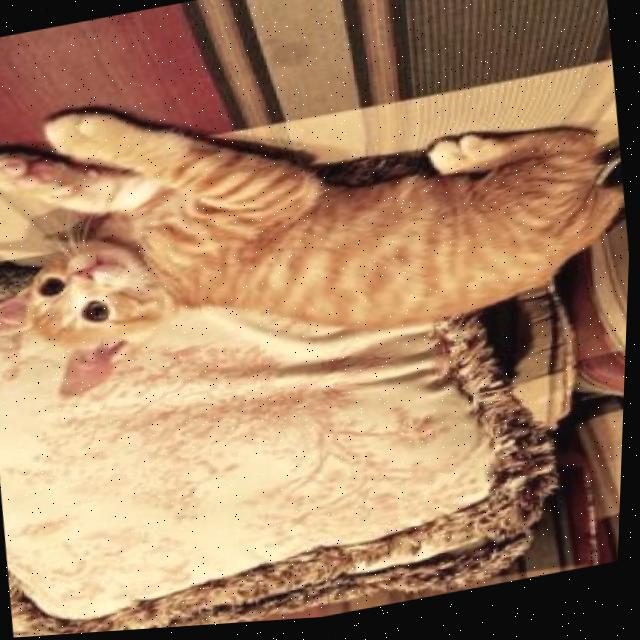American Bobtail: (0, 14, 639, 421)
